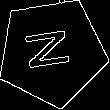N_E: (24, 28, 80, 76)
